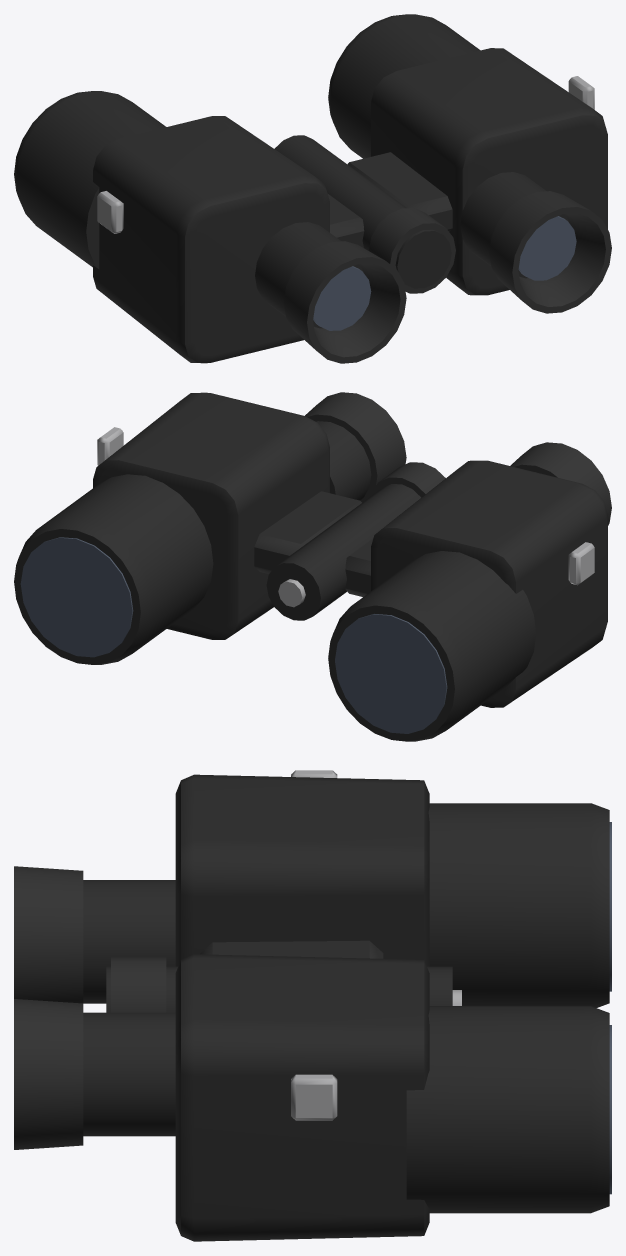
File: binoculars.glb
3 views of the same model, one above another, from view 1: azimuth 30°, elevation 25°; view 2: azimuth 150°, elevation 25°; view 3: azimuth 270°, elevation 25° (orthographic). The views are drawn at different scales.
Visible parts, largest first — view 1: body; view 2: body; view 3: body.
Part boxes in pixels (x1,y1,x2,y2): body: (14, 14, 611, 363); body: (14, 392, 611, 741); body: (14, 770, 611, 1241).
Bounding box in the file's own units: 0.16 × 0.052 × 0.1295.
